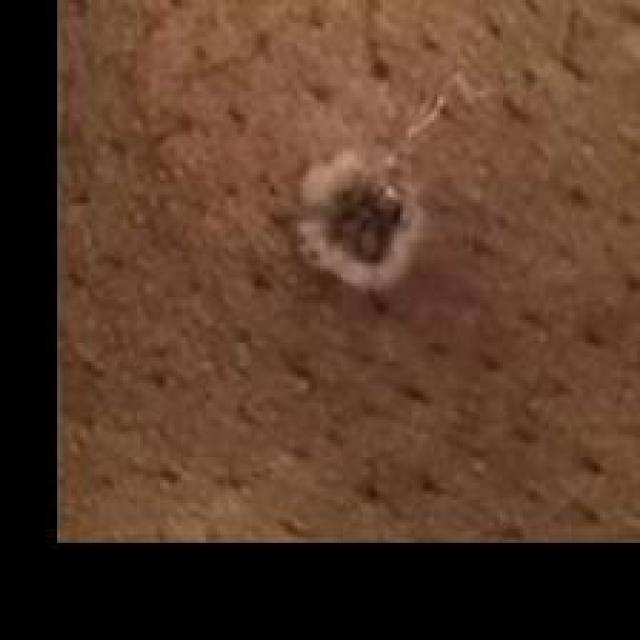monkeypox: (123, 20, 635, 482)
